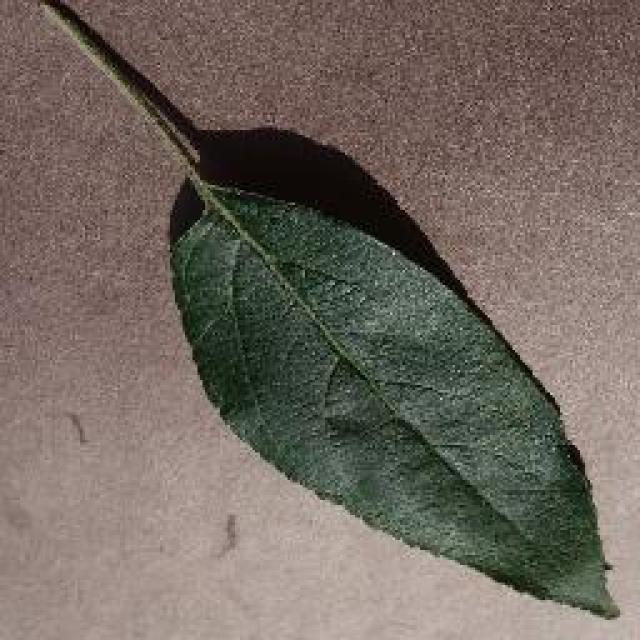apple healthy: (5, 0, 623, 620)
